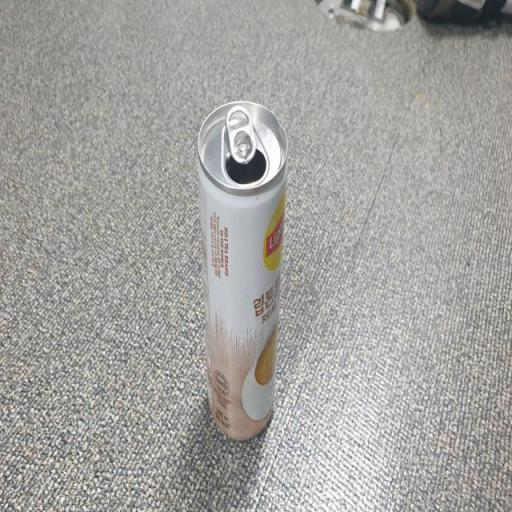metal: (186, 80, 295, 455)
